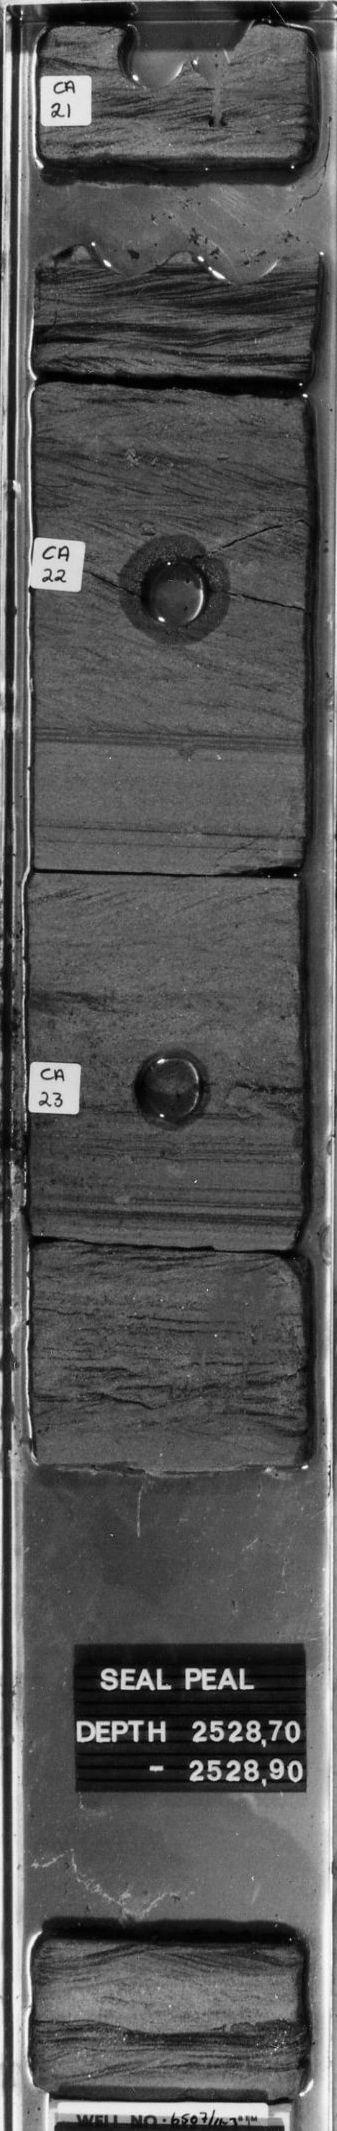hplug: (122, 531, 230, 647), (126, 1042, 213, 1133), (111, 30, 185, 88)
scal: (73, 235, 189, 281), (192, 245, 285, 289)
vplug: (186, 20, 249, 130)
